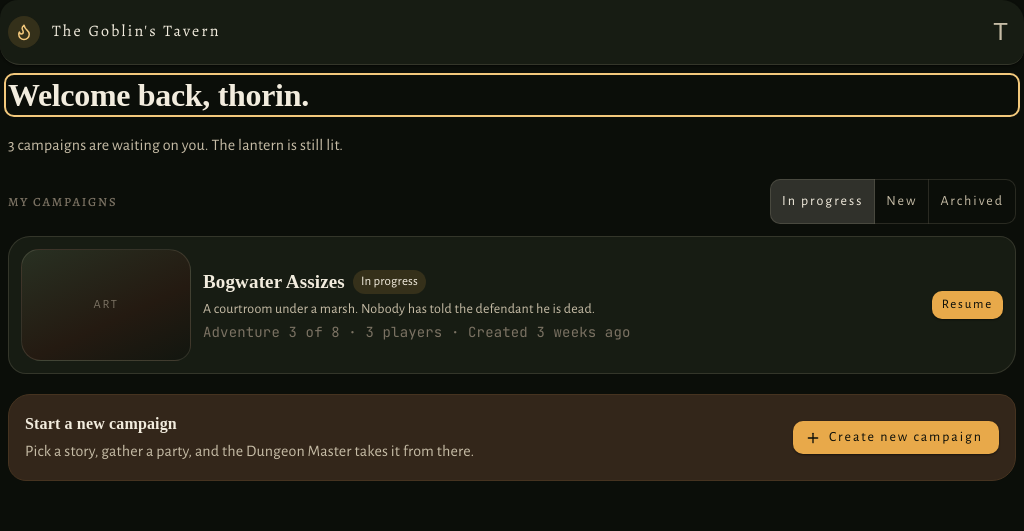
DashboardRoute on / (AC1-AC5) › AC1 (sprint 007/08): switching a tag filters the list
Expected: the text "Bogwater Assizes" is shown, [203,267,345,297]
Expected: the text "Greenhollow Woods" is not shown
Click the button "New": click(902, 202) [874,179,929,224]
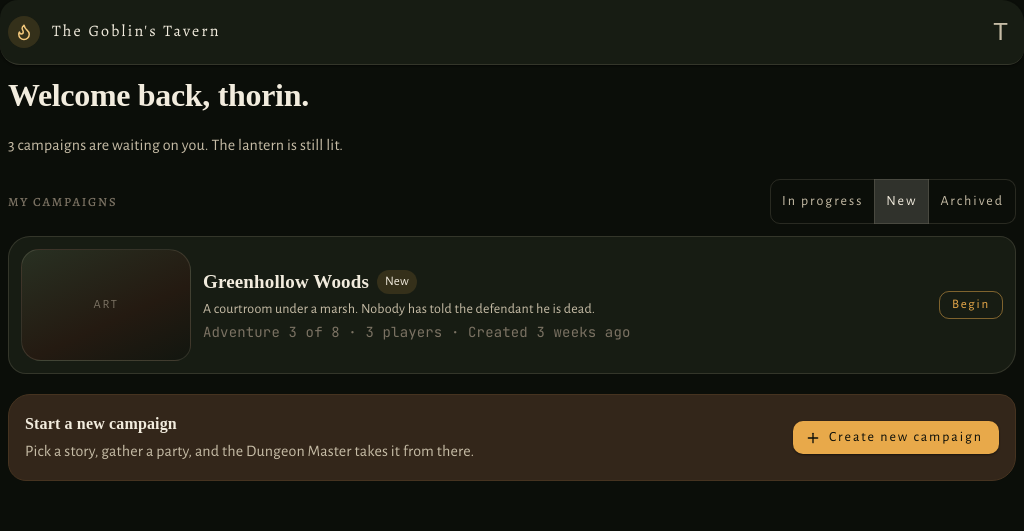
Now the text "Greenhollow Woods" is shown, box [203,267,369,297]
Now the text "Bogwater Assizes" is gone
Click the button "Archived": click(972, 202) [928,179,1016,224]
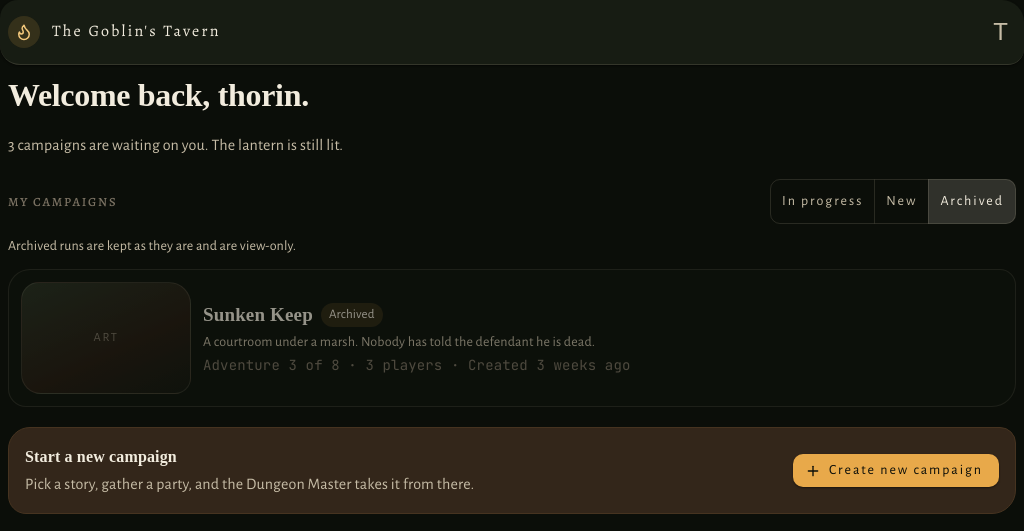
Now the text "Sunken Keep" is shown, box [203,300,313,330]
Now the text "Greenhollow Woods" is gone
